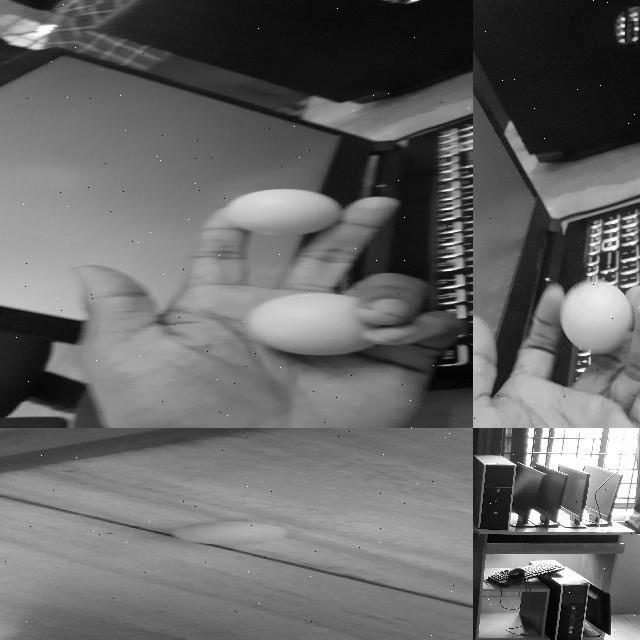ping-pong-ball: (252, 293, 381, 357), (224, 188, 340, 238), (560, 280, 632, 356), (174, 522, 285, 543)
